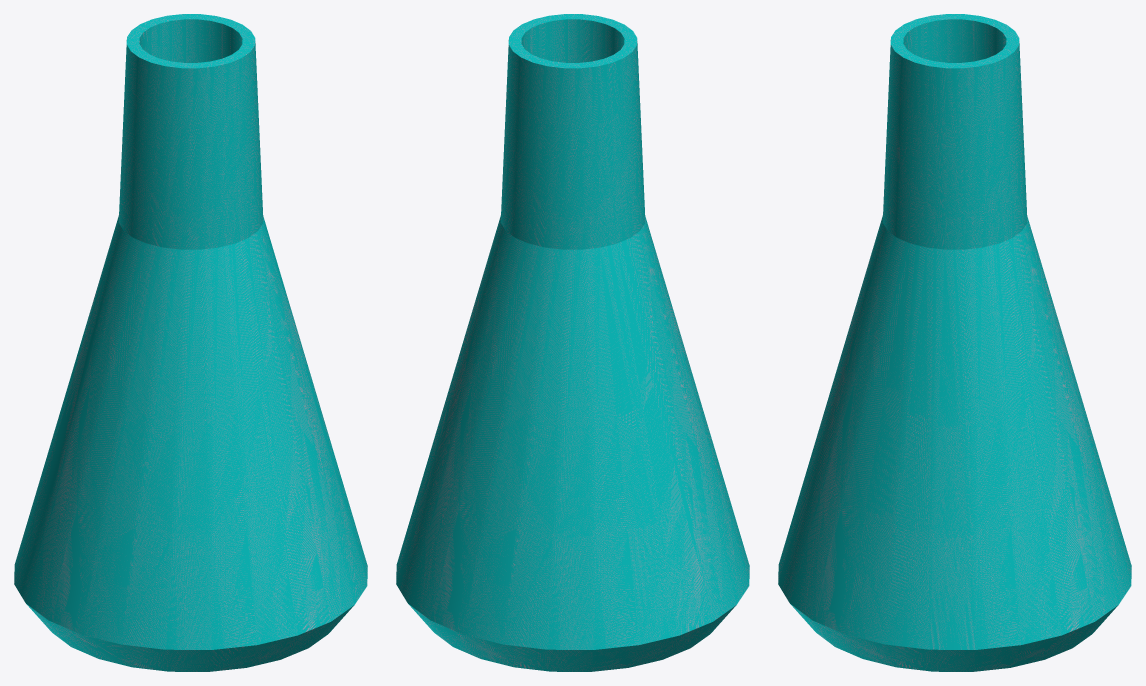
File: kolba.fbx
3 renders of one model, left to right at view 1: azimuth 30°, elevation 25°; view 2: azimuth 150°, elevation 25°; view 3: azimuth 270°, elevation 25°, orthographic.
Parts seen in each view (by area): view 1: Model; view 2: Model; view 3: Model.
Boxes of the visible parts, box(x1,y1,x2,y2) form: Model: box(14, 14, 367, 671); Model: box(396, 14, 749, 671); Model: box(778, 14, 1131, 671).
Bounding box in the file's own units: 0.3781 × 0.67 × 0.3781.
